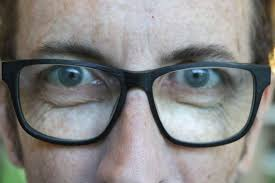Glasses: (1, 49, 273, 147)
